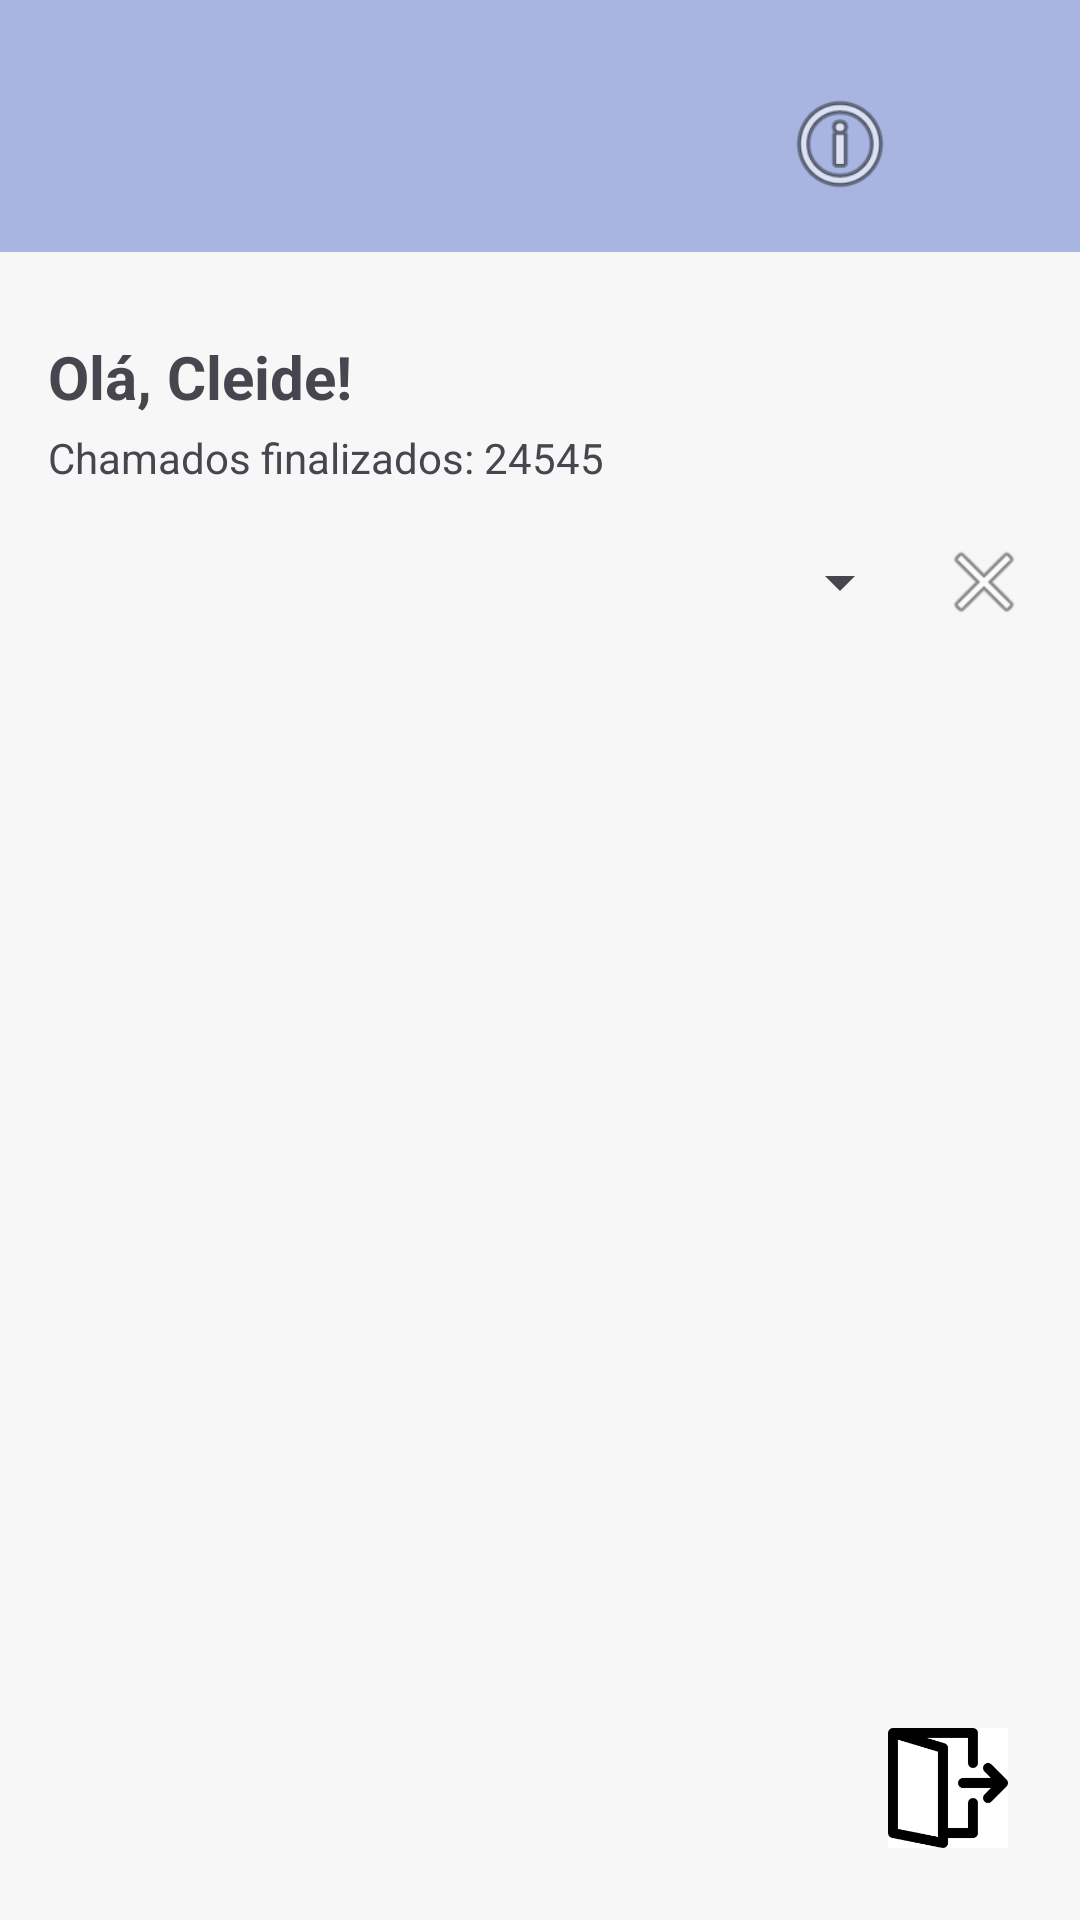

Point at icon controls on the screen. Image size 1080px x 1920px, points as (x,y).
info details: (840,144)
Limpar filtro: (984,582)
